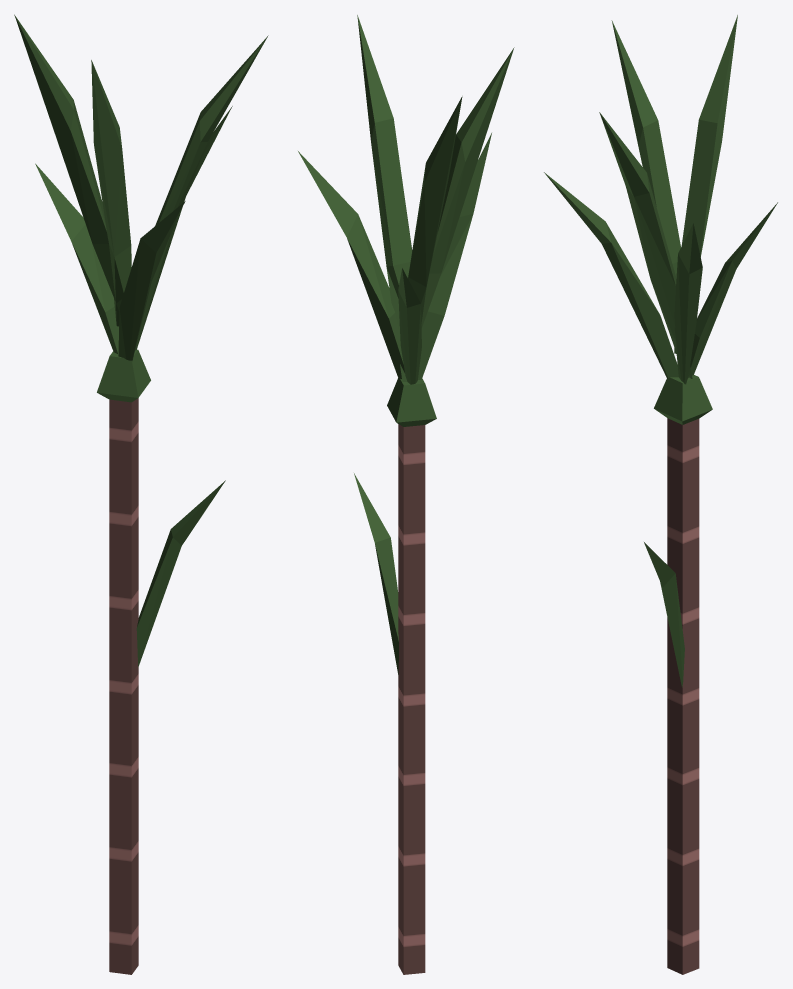
The model's file is SM_Env_SugarCane_01.glb.
The picture shows the model from 3 angles, left to right: view 1: azimuth 30°, elevation 25°; view 2: azimuth 150°, elevation 25°; view 3: azimuth 270°, elevation 25°; orthographic projection. The views are drawn at different scales.
Parts seen in each view (by area): view 1: SM_Env_SugarCane_01_part00; view 2: SM_Env_SugarCane_01_part00; view 3: SM_Env_SugarCane_01_part00.
Boxes of the visible parts, <box> form: SM_Env_SugarCane_01_part00: <box>14,14,268,974</box>; SM_Env_SugarCane_01_part00: <box>298,15,514,974</box>; SM_Env_SugarCane_01_part00: <box>544,15,777,974</box>.
Size of the model in its own units: 0.4579 by 2.13 by 0.4971.
Materials: 1 (1 with a texture image).
